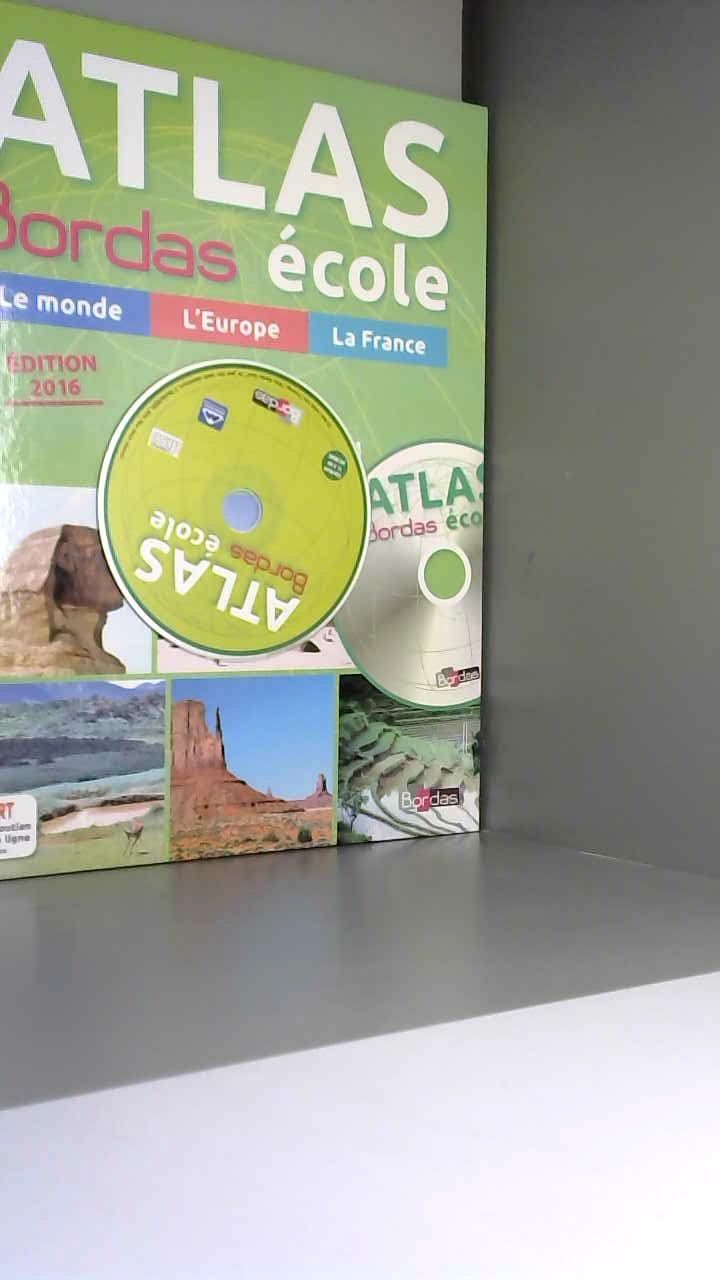book: (0, 0, 540, 902)
